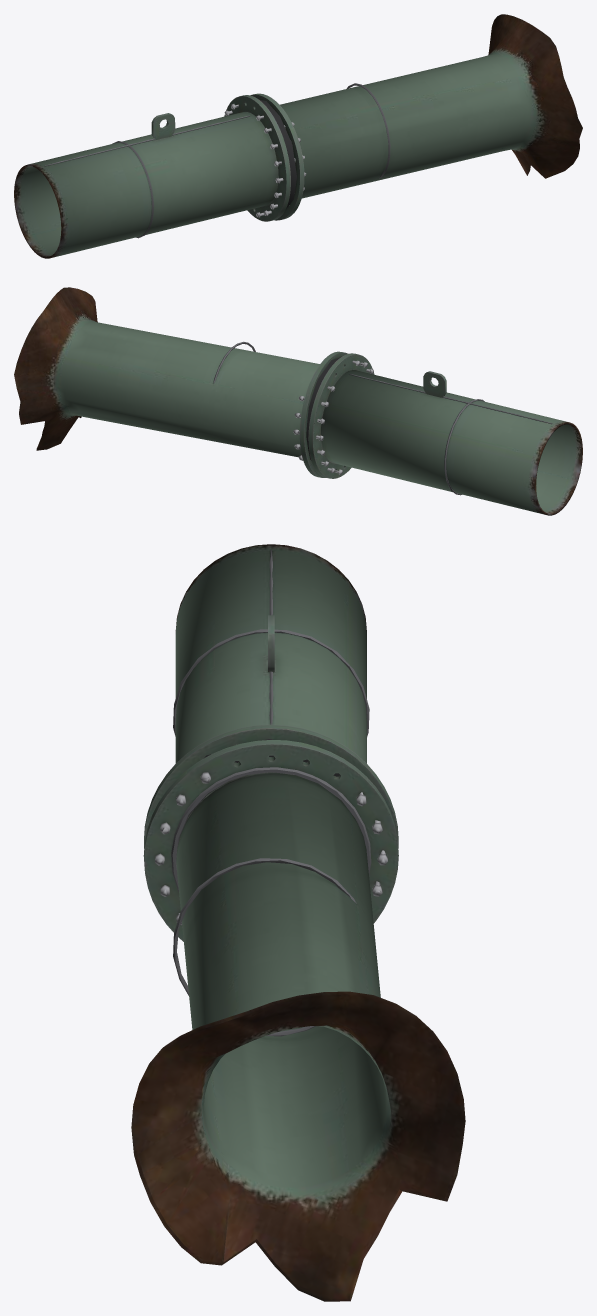
Rendered from industrial_pipe_large_fractured_lod1.glb.
3 views of the same model, one above another, from view 1: azimuth 30°, elevation 25°; view 2: azimuth 150°, elevation 25°; view 3: azimuth 270°, elevation 25° (orthographic). The views are drawn at different scales.
Visible parts, largest first — view 1: industrial_pipe_large_fractured_paint, industrial_pipe_large_fractured_weld, industrial_pipe_large_fractured_rubber, industrial_pipe_large_fractured_bolt; view 2: industrial_pipe_large_fractured_paint, industrial_pipe_large_fractured_weld, industrial_pipe_large_fractured_bolt, industrial_pipe_large_fractured_rubber; view 3: industrial_pipe_large_fractured_paint, industrial_pipe_large_fractured_weld, industrial_pipe_large_fractured_bolt.
Part boxes in pixels (x1=…): industrial_pipe_large_fractured_paint: x1=14, y1=14, x2=582, y2=258; industrial_pipe_large_fractured_weld: x1=45, y1=83, x2=390, y2=238; industrial_pipe_large_fractured_rubber: x1=259, y1=99, x2=296, y2=209; industrial_pipe_large_fractured_bolt: x1=224, y1=104, x2=306, y2=217; industrial_pipe_large_fractured_paint: x1=14, y1=287, x2=582, y2=515; industrial_pipe_large_fractured_weld: x1=213, y1=341, x2=552, y2=495; industrial_pipe_large_fractured_bolt: x1=293, y1=360, x2=373, y2=474; industrial_pipe_large_fractured_rubber: x1=306, y1=357, x2=340, y2=460; industrial_pipe_large_fractured_paint: x1=131, y1=544, x2=465, y2=1301; industrial_pipe_large_fractured_weld: x1=171, y1=549, x2=371, y2=1036; industrial_pipe_large_fractured_bolt: x1=155, y1=772, x2=387, y2=925.
Bounding box in the file's own units: 3.69 × 1.09 × 1.05.
Materials: 4 (1 with a texture image).
